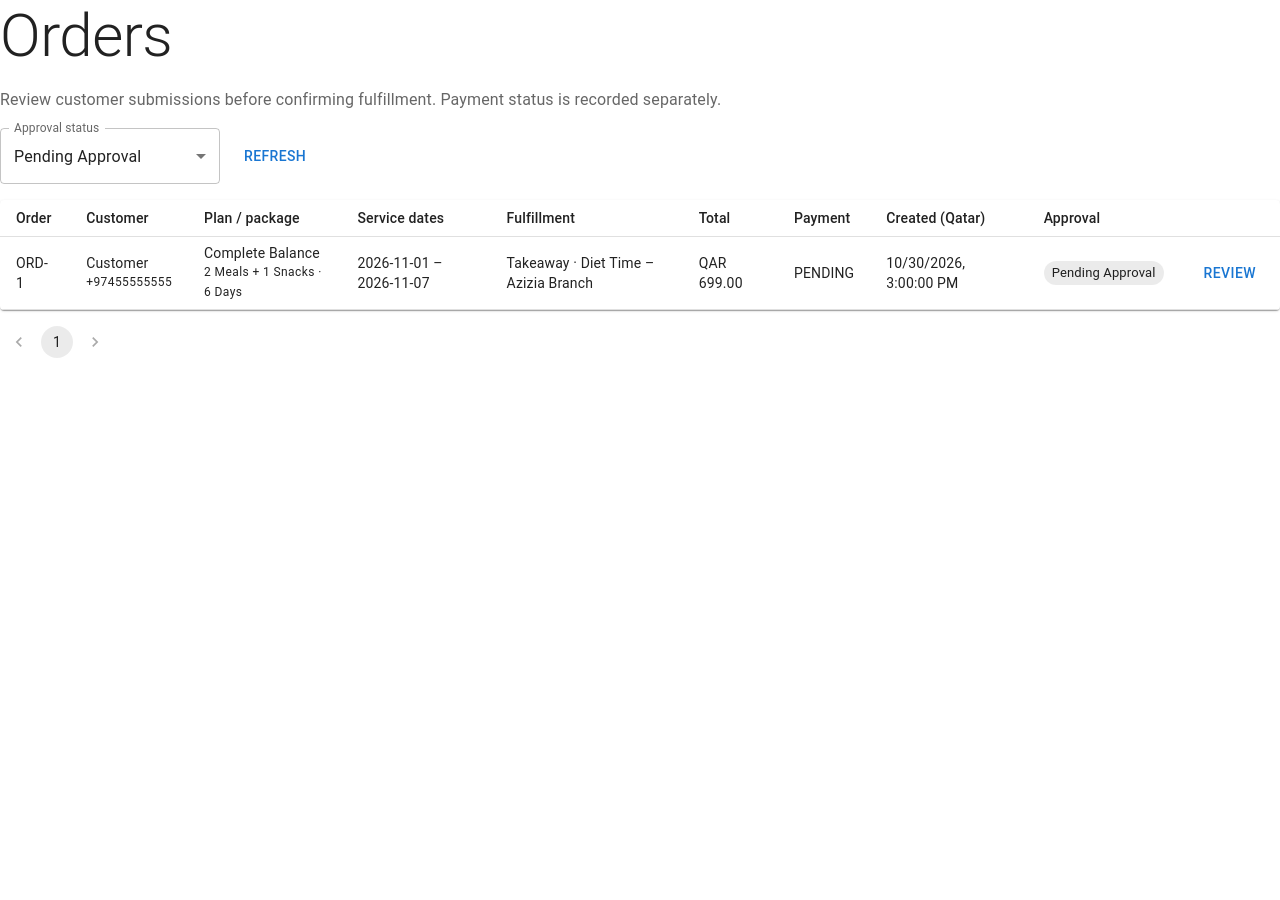
Test: Staff order review › records received payment with a receipt reference without approving a pending order
This screenshot has width=1280, height=900.
Click the button "Review" at [1230, 273], box [1196, 255, 1264, 291]
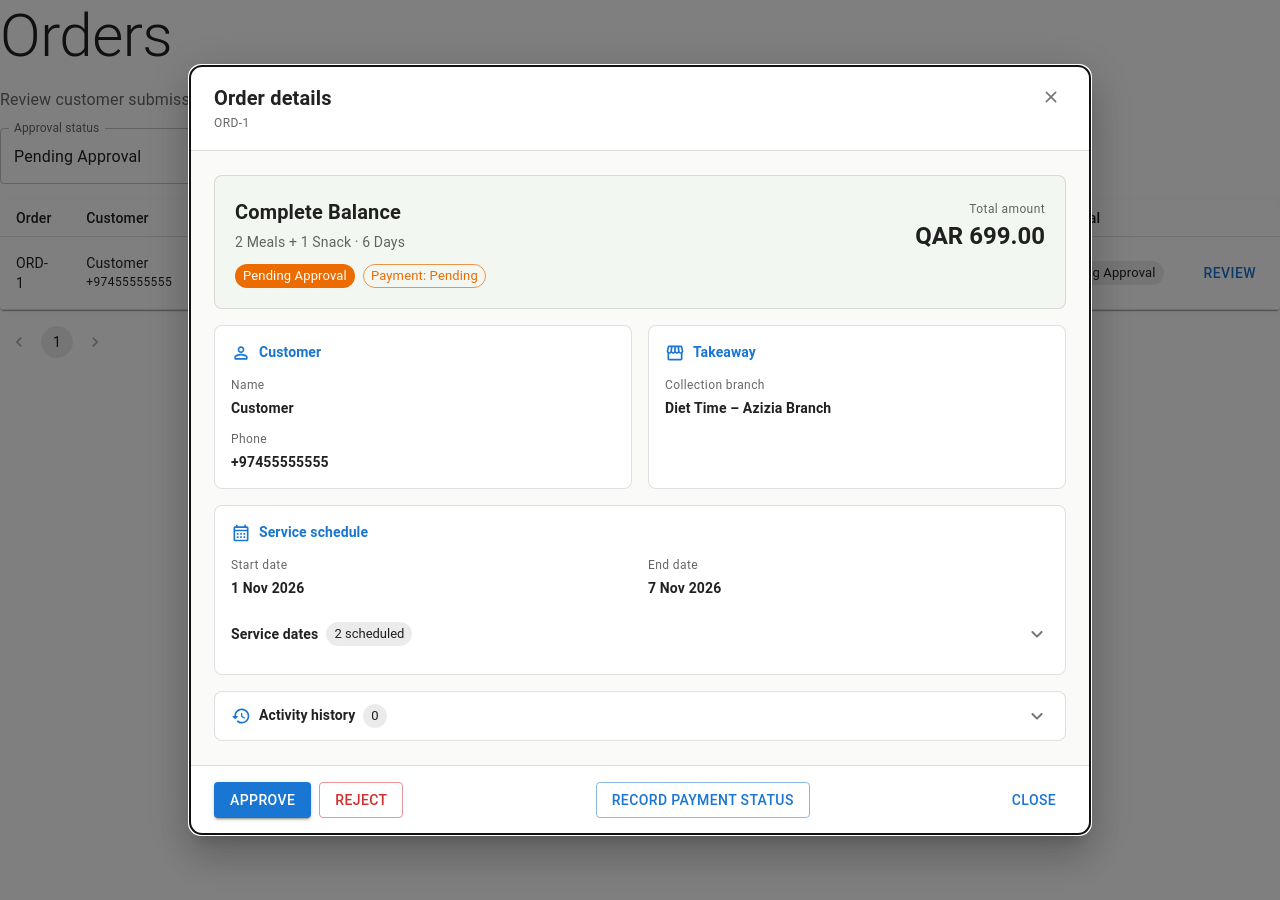
Click the button "Record Payment Status" at [703, 800], box [596, 782, 810, 818]
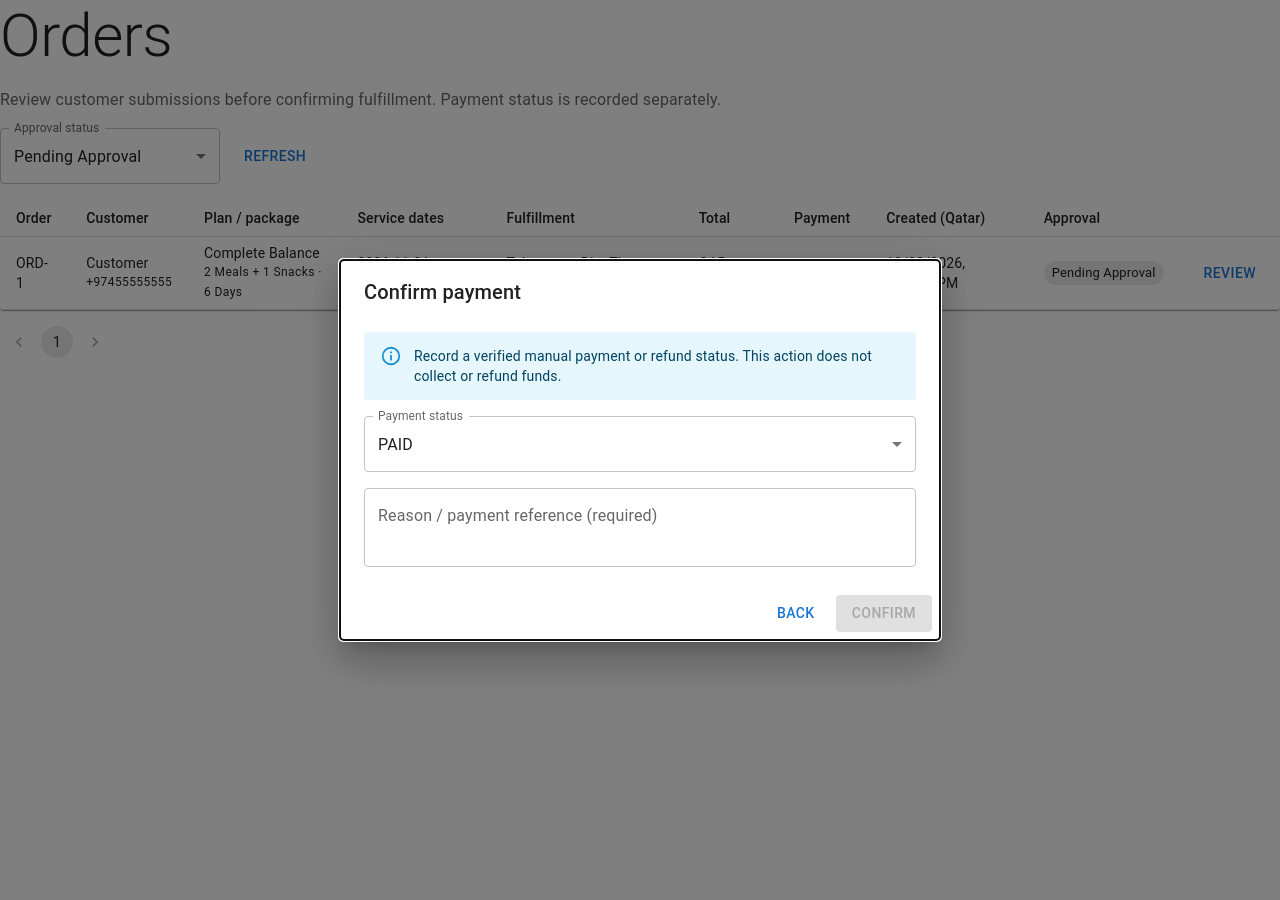
Expected: the button "Confirm" is disabled, [836, 595, 932, 632]
Type "Cash receipt 123" into the text box labelled "Reason / payment reference (required)" at [640, 528], box [378, 505, 902, 551]
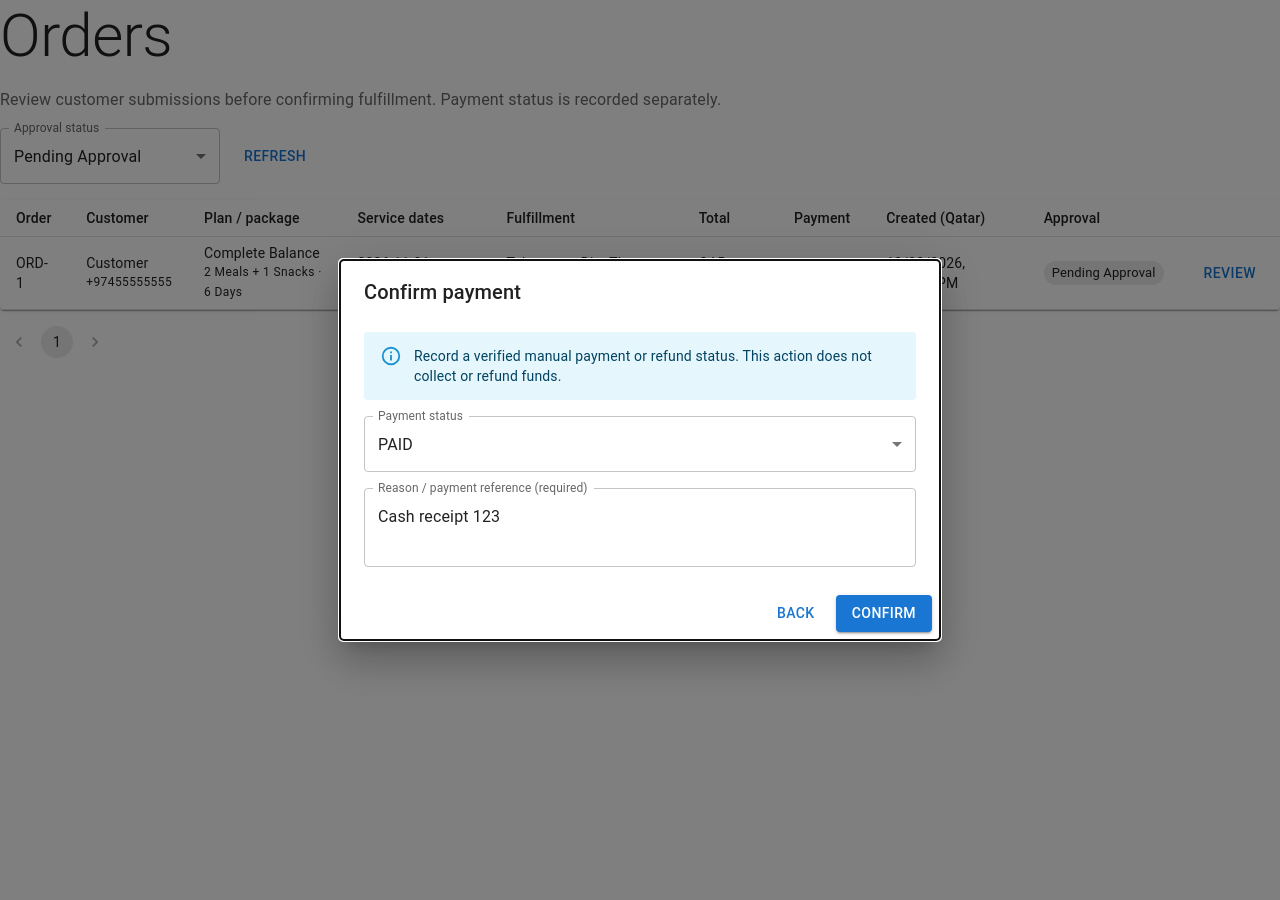
Click the button "Confirm" at [884, 614], box [836, 595, 932, 632]
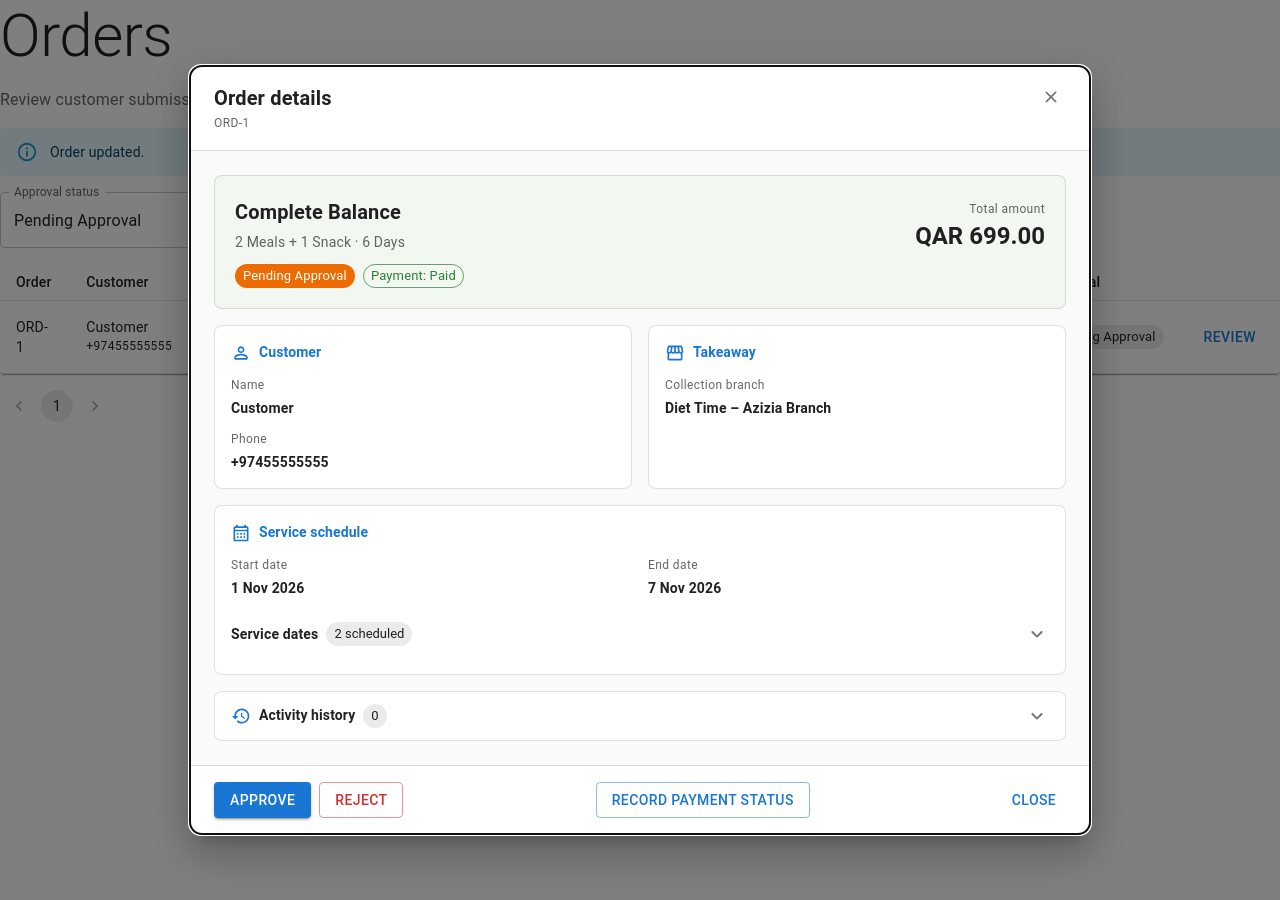
Expected: the text "Payment: Paid" is shown, [364, 266, 463, 286]
Expected: the text "Pending Approval" is shown, [235, 266, 355, 286]
